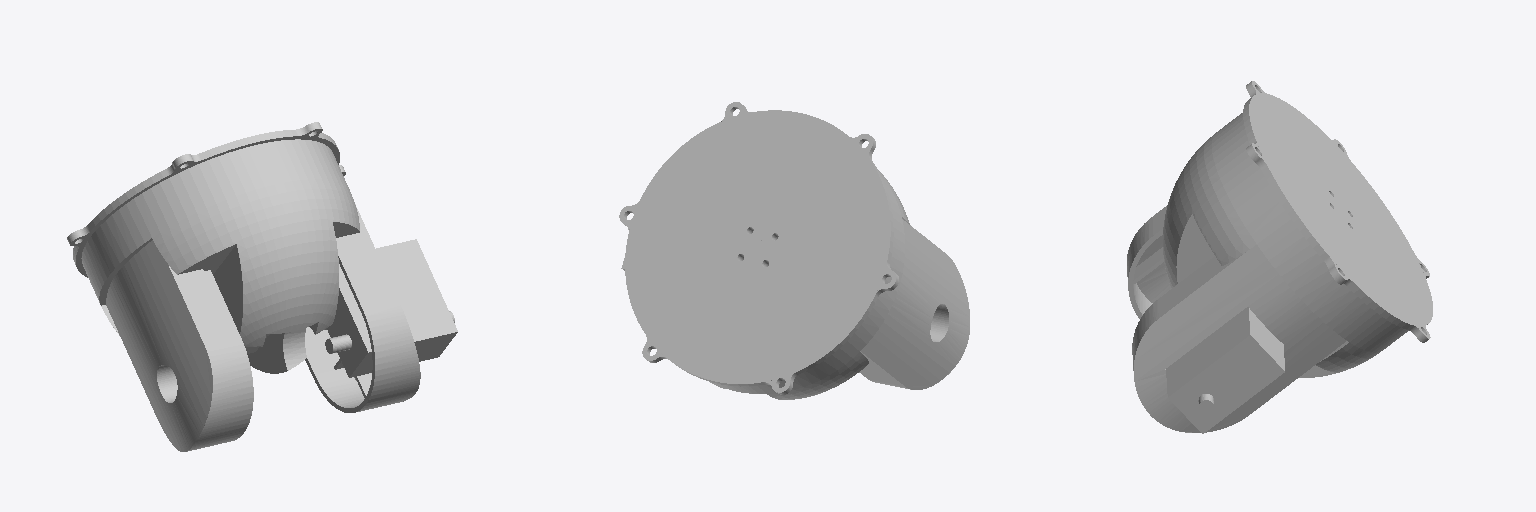
3 views of the same model, side by side, from view 1: azimuth 30°, elevation 25°; view 2: azimuth 150°, elevation 25°; view 3: azimuth 270°, elevation 25° (orthographic).
Visible parts, largest first — view 1: Component3\Solid, Component2\Solid1, Component1\Solid, Component27\Solid, Component5\Solid; view 2: Component5\Solid, Component2\Solid1, Component3\Solid; view 3: Component3\Solid, Component5\Solid, Component1\Solid, Component27\Solid, Component2\Solid1.
Boxes of the visible parts, x1=… form: Component3\Solid: x1=81, y1=139, x2=359, y2=373; Component2\Solid1: x1=106, y1=240, x2=253, y2=451; Component1\Solid: x1=305, y1=204, x2=420, y2=412; Component27\Solid: x1=325, y1=239, x2=457, y2=377; Component5\Solid: x1=73, y1=130, x2=339, y2=277; Component5\Solid: x1=625, y1=110, x2=893, y2=386; Component2\Solid1: x1=859, y1=219, x2=969, y2=389; Component3\Solid: x1=710, y1=170, x2=909, y2=399; Component3\Solid: x1=1163, y1=113, x2=1408, y2=377; Component5\Solid: x1=1243, y1=93, x2=1432, y2=329; Component1\Solid: x1=1132, y1=245, x2=1346, y2=432; Component27\Solid: x1=1166, y1=307, x2=1284, y2=433; Component2\Solid1: x1=1127, y1=206, x2=1171, y2=318.
Size of the model in its own units: 142 by 117 by 120.